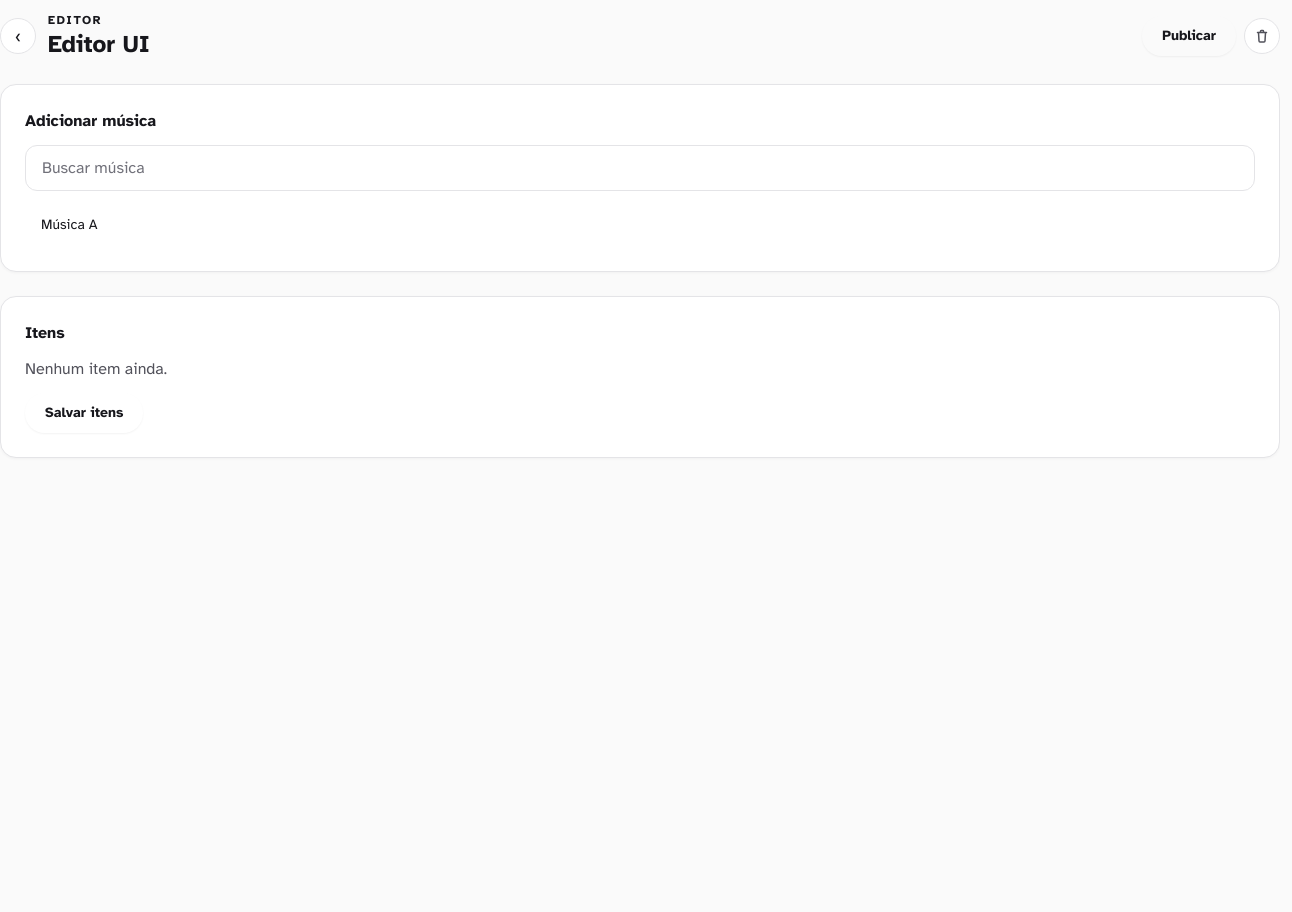
Scenario: SetlistEditor › requires chart choice when multiple charts exist
Click the button "Música A" at (69, 224), box [29,203,620,247]
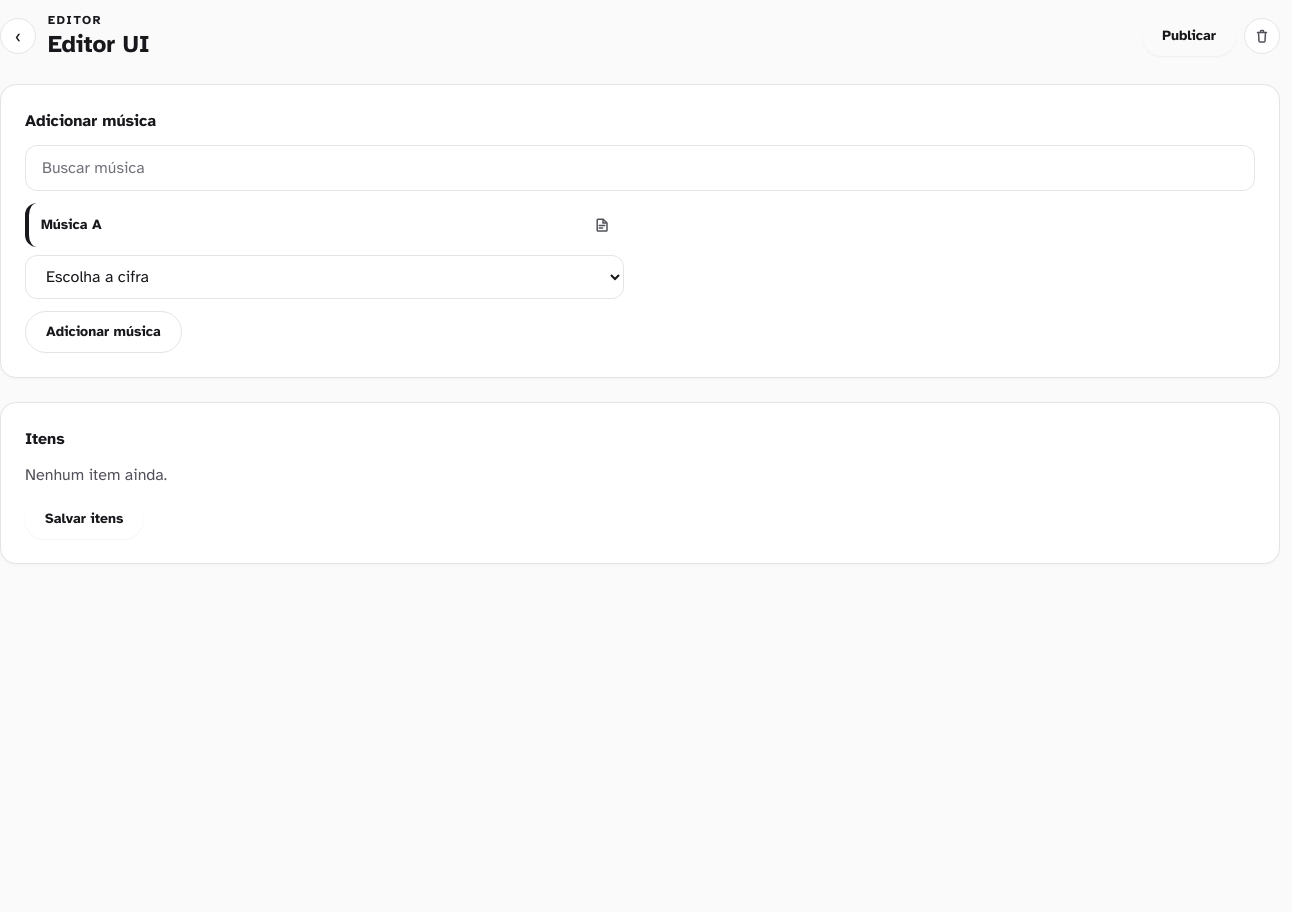
Result: the dropdown named "Escolher cifra de Música A" is shown at [25,255,624,299]
Click the button "Adicionar música" at (103, 332), box [25,311,182,353]
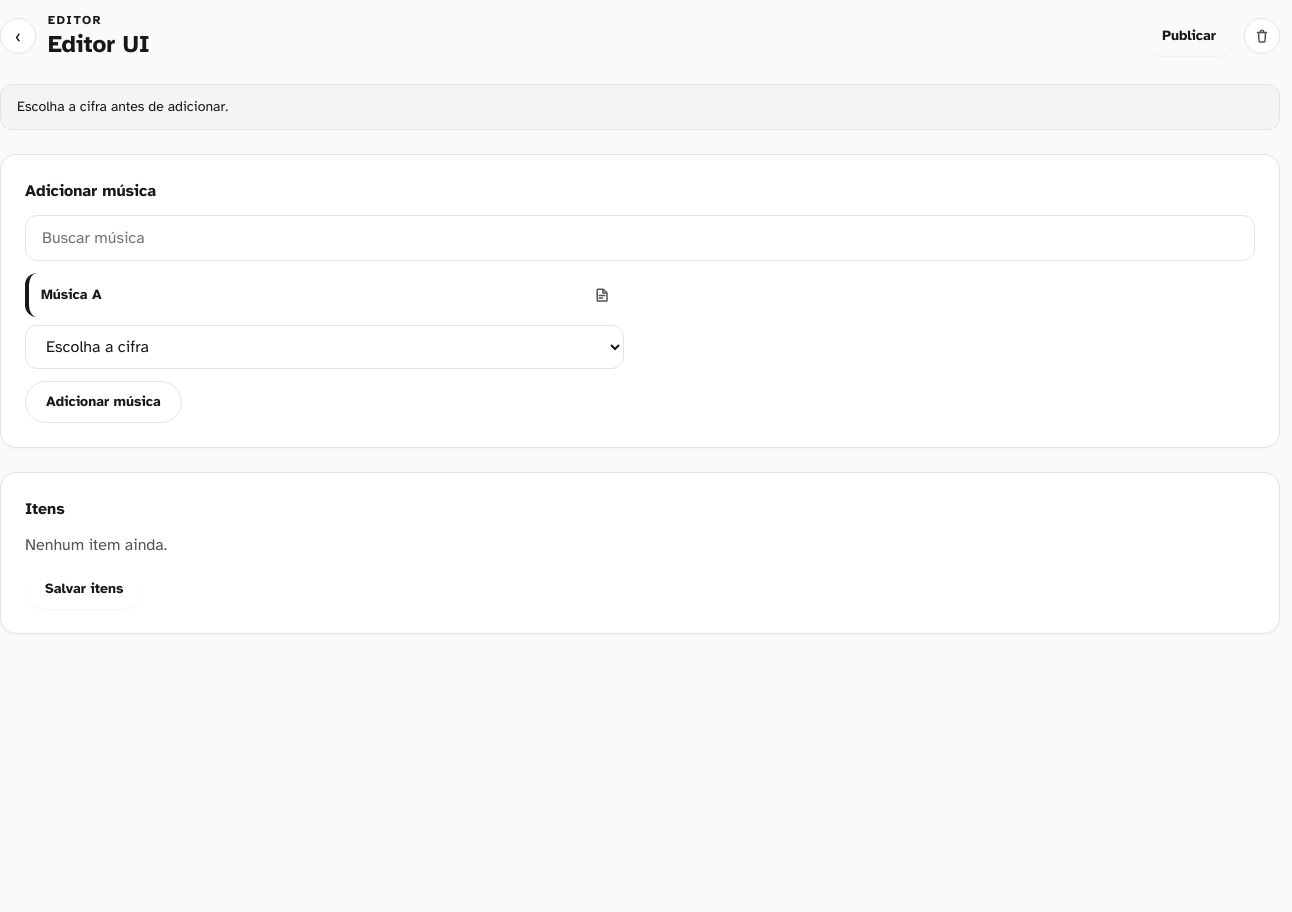
Result: the message reads "Escolha a cifra antes de adicionar." at [17,98,228,115]
